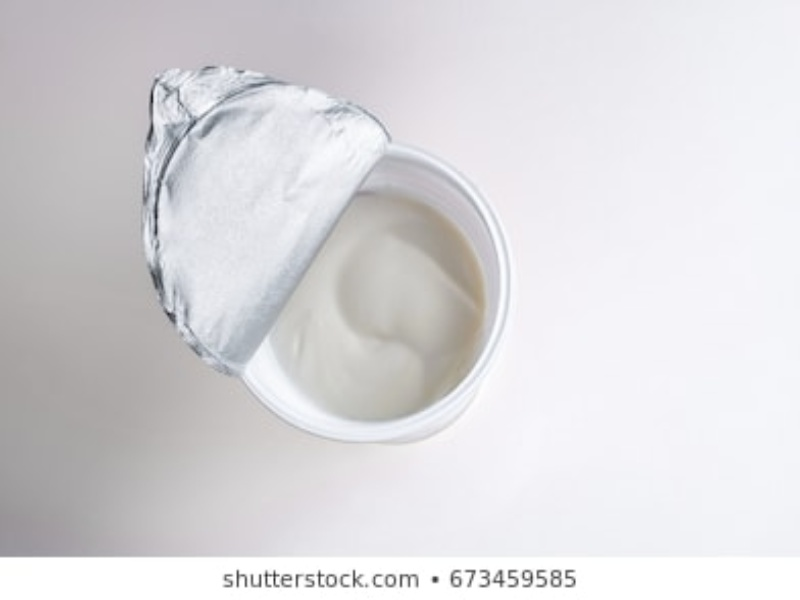yogurt-cup: (242, 139, 515, 446)
